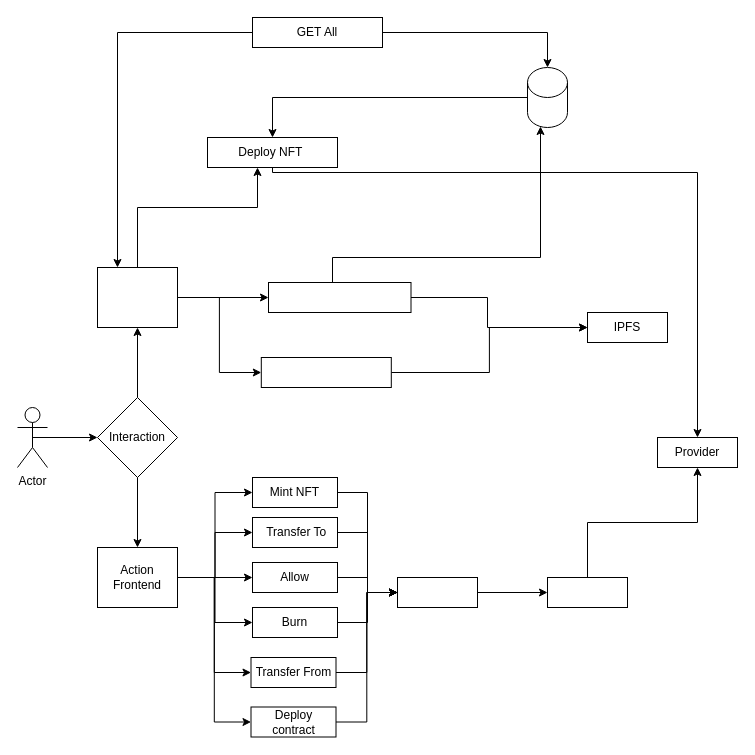
Some shapes in this 755 by 755 pixel diagram are drawn without their labels. The shapes that lost their labels are listed below. From the top down, each one's centre as x and y in pixels, then its label:
(547,97): DB
(137,297): Question Backend
(339,297): POST Image + metadata
(325,372): GET metadata by ID
(437,592): Contract data
(587,592): Metamask
